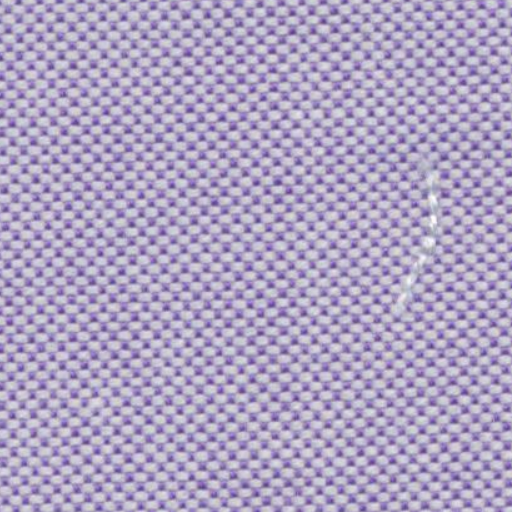DuanSha: (389, 154, 466, 331)
